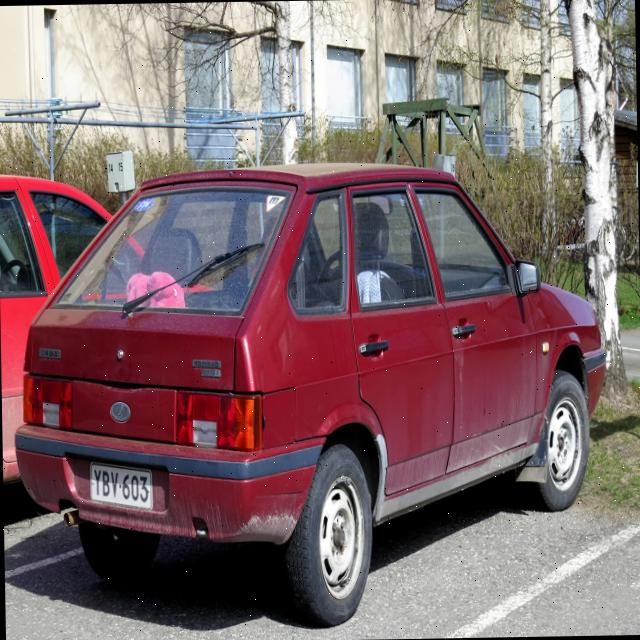License-plate: (88, 463, 154, 514)
